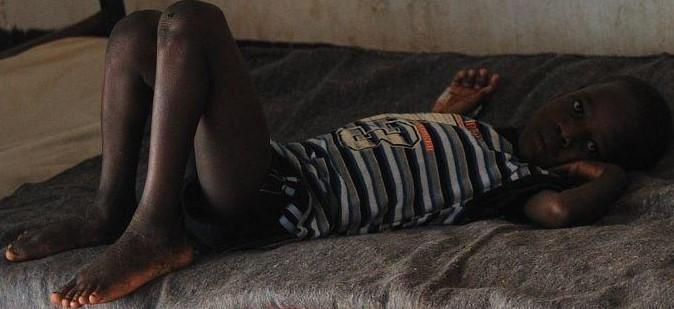Stunting: (503, 69, 674, 209)
